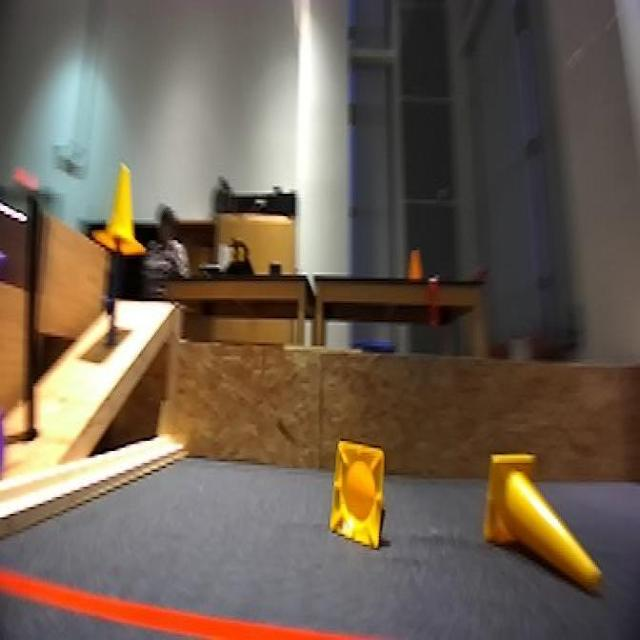frc_cone: (476, 448, 614, 599), (328, 442, 393, 544), (97, 157, 150, 269)
